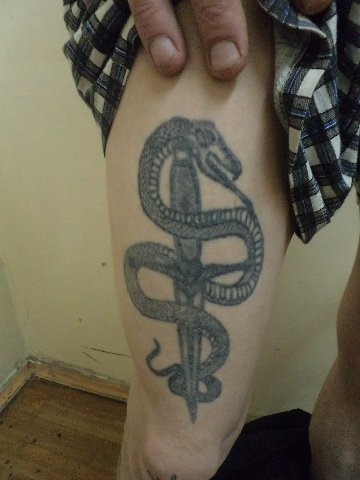tatu7_zmeya: (121, 99, 270, 443)
